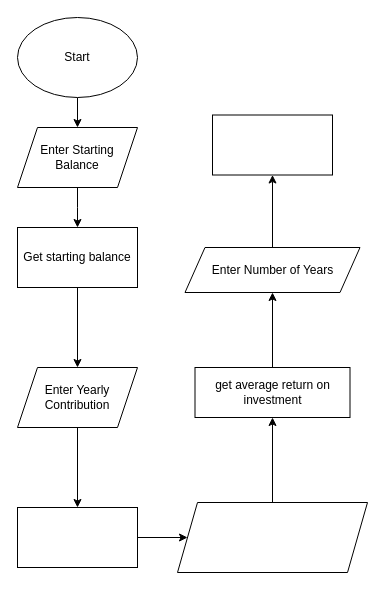
Some shapes in this 385 by 590 pixel diagram are drawn without their labels. Here are the shapes that lost their labels. From the top down, the centre of each, then its label:
pixel 272 144: get number of years
pixel 77 537: get yearly contribution
pixel 272 537: Enter Average Return On Investment
